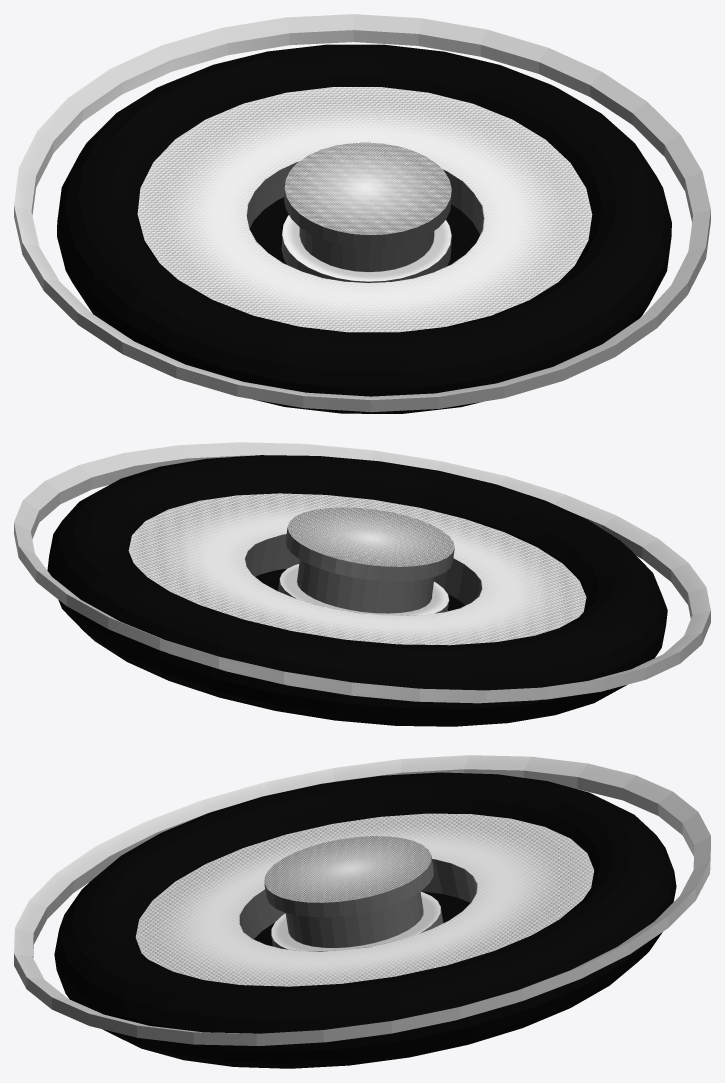
File: DJBooth Draaiding.fbx
3 views of the same model, one above another, from view 1: azimuth 30°, elevation 25°; view 2: azimuth 150°, elevation 25°; view 3: azimuth 270°, elevation 25° (orthographic).
Visible parts, largest first — view 1: polySurface638; view 2: polySurface638; view 3: polySurface638.
Part boxes in pixels (box(x1,y1,x2,y2)): polySurface638: box(14, 14, 710, 413); polySurface638: box(14, 442, 710, 726); polySurface638: box(14, 755, 710, 1068).
Size of the model in its own units: 2.01 by 0.4574 by 1.99.
